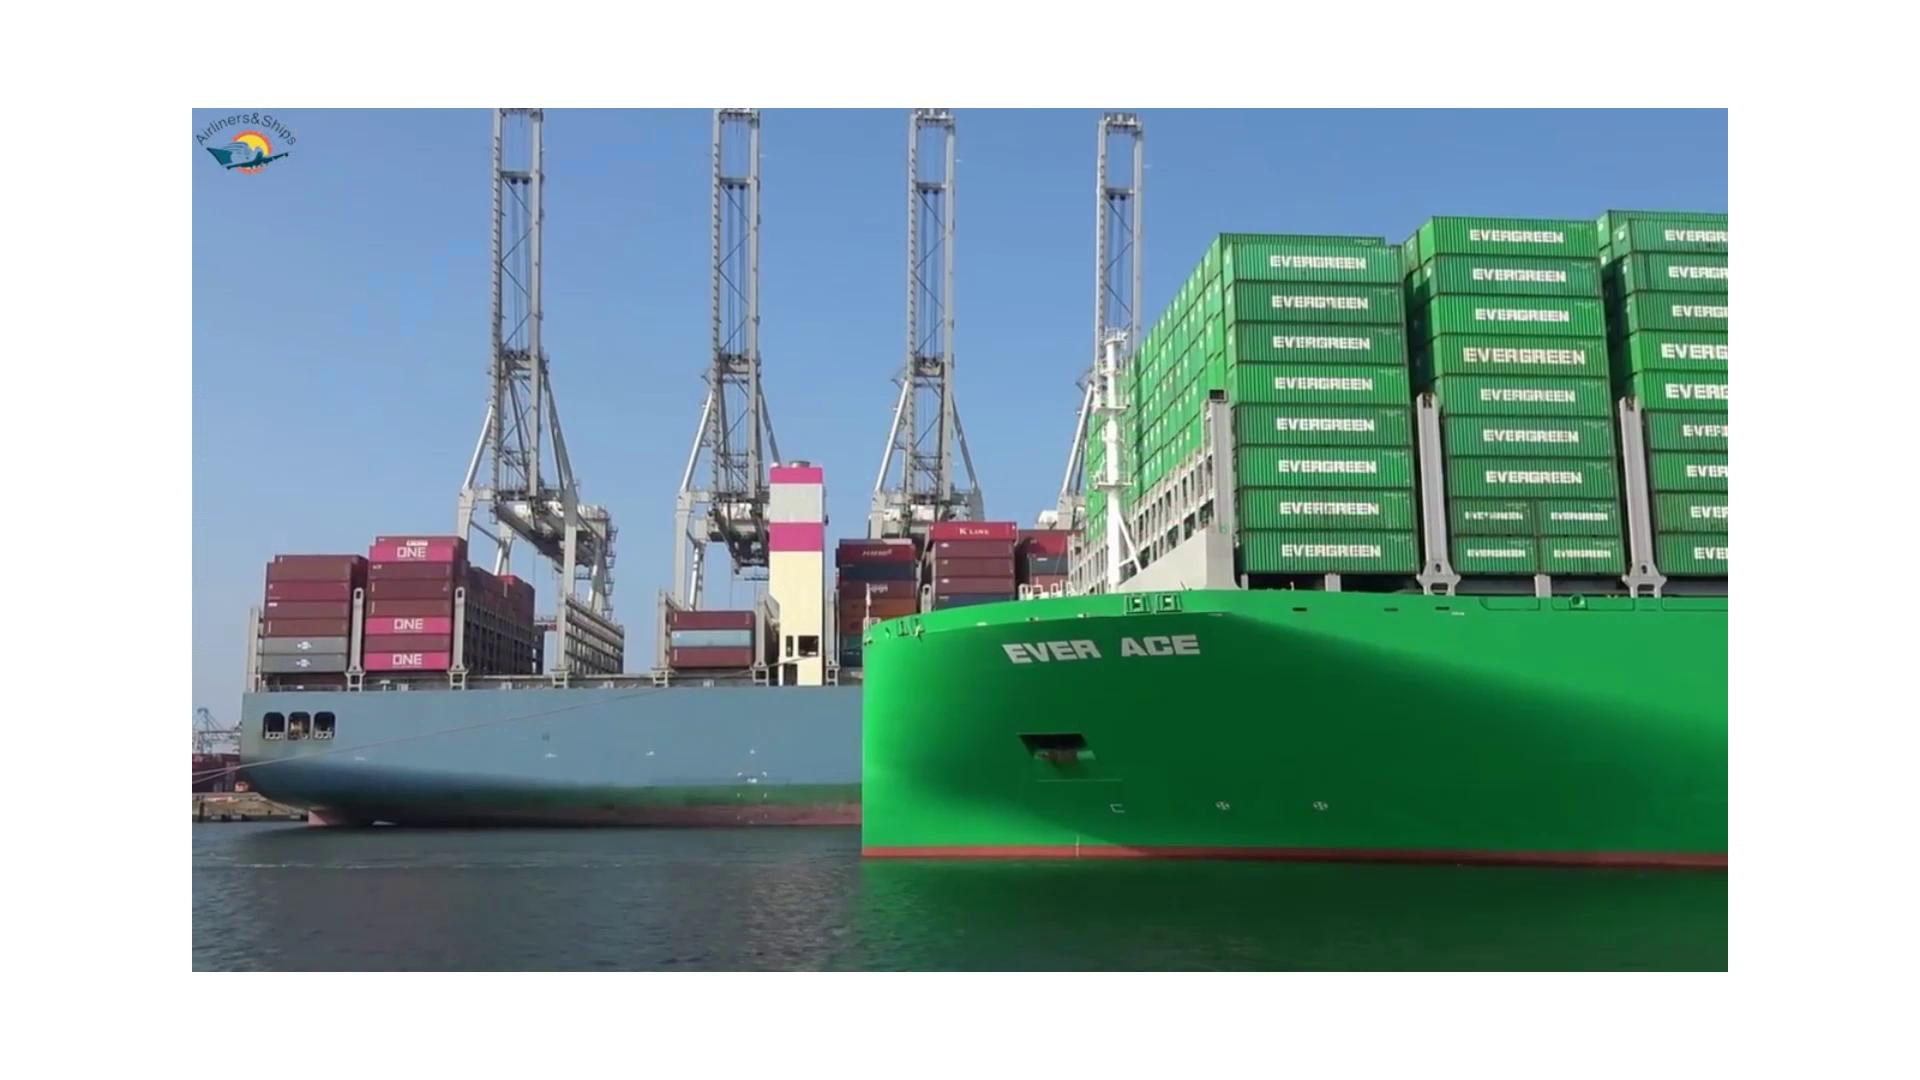OCR: (963, 625, 1212, 679)
